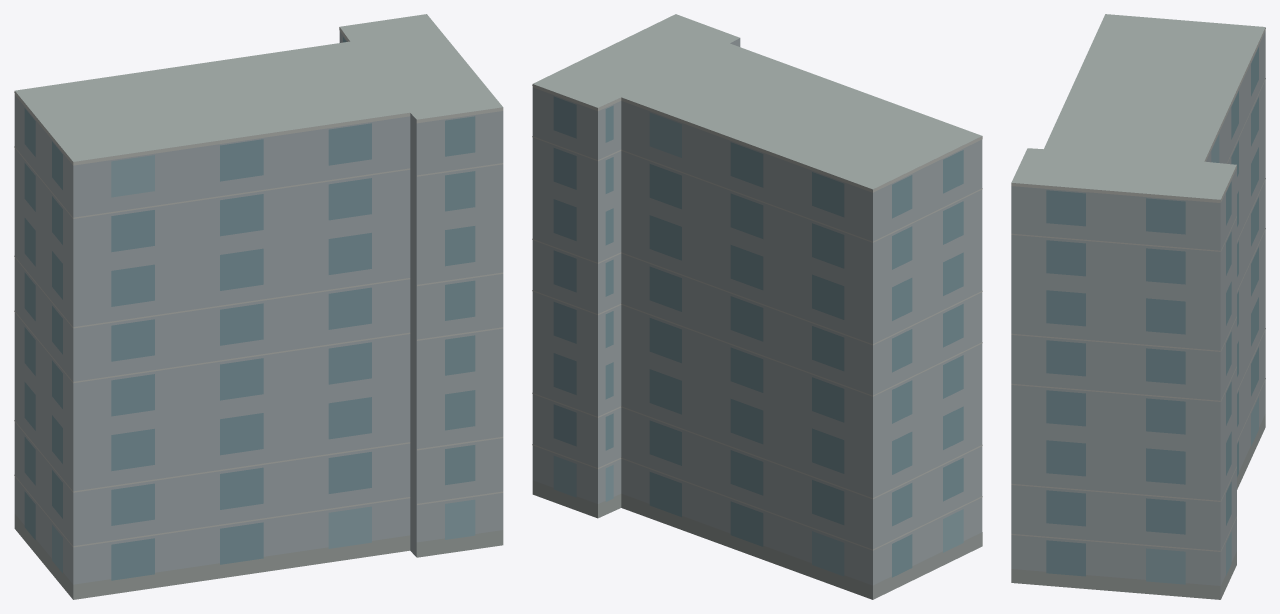
Rendered from survey-upis-32771323.glb.
The picture shows the model from 3 angles, left to right: view 1: azimuth 30°, elevation 25°; view 2: azimuth 150°, elevation 25°; view 3: azimuth 270°, elevation 25°; orthographic projection. The views are drawn at different scales.
Parts seen in each view (by area): view 1: survey-upis-32771323.tmp; view 2: survey-upis-32771323.tmp; view 3: survey-upis-32771323.tmp.
Part boxes in pixels (x1,y1,x2,y2): survey-upis-32771323.tmp: (14, 14, 503, 599); survey-upis-32771323.tmp: (532, 14, 982, 599); survey-upis-32771323.tmp: (1011, 14, 1265, 599).
Bounding box in the file's own units: 29.21 × 29.3 × 16.91.
